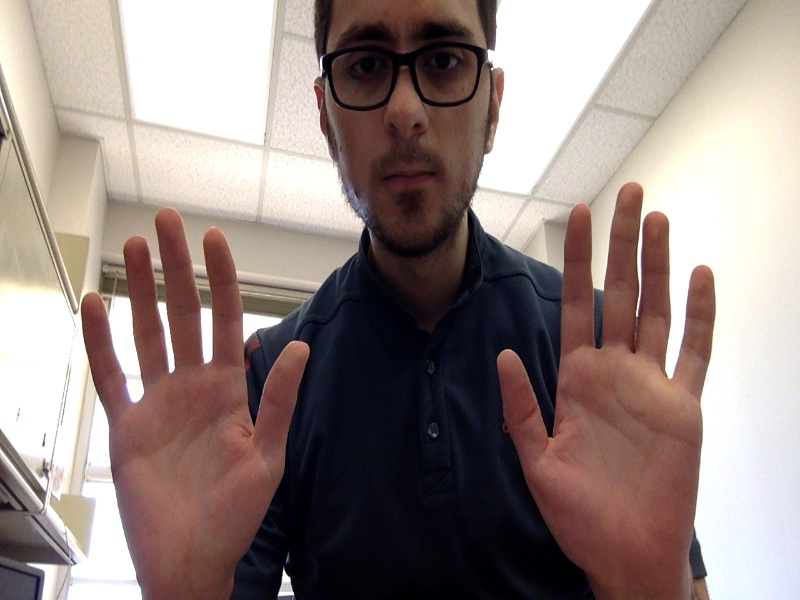5-hand: (497, 184, 715, 586), (82, 210, 307, 585)
